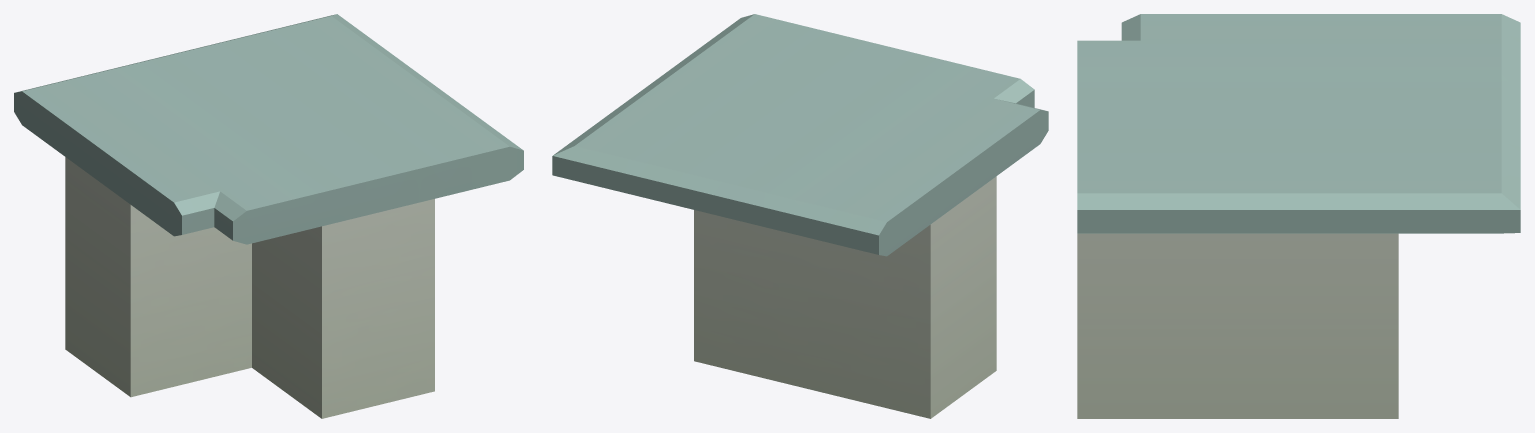
Rendered from counter-table2.glb.
3 renders of one model, left to right at view 1: azimuth 30°, elevation 25°; view 2: azimuth 150°, elevation 25°; view 3: azimuth 270°, elevation 25°, orthographic. The views are drawn at different scales.
Visible parts, largest first — view 1: CounterTable2.001; view 2: CounterTable2.001; view 3: CounterTable2.001.
Part boxes in pixels (x1=…): CounterTable2.001: x1=14, y1=14, x2=523, y2=418; CounterTable2.001: x1=552, y1=14, x2=1048, y2=418; CounterTable2.001: x1=1077, y1=14, x2=1520, y2=418.
Bounding box in the file's own units: 1 × 0.6696 × 1.
Materials: 1 (1 with a texture image).
